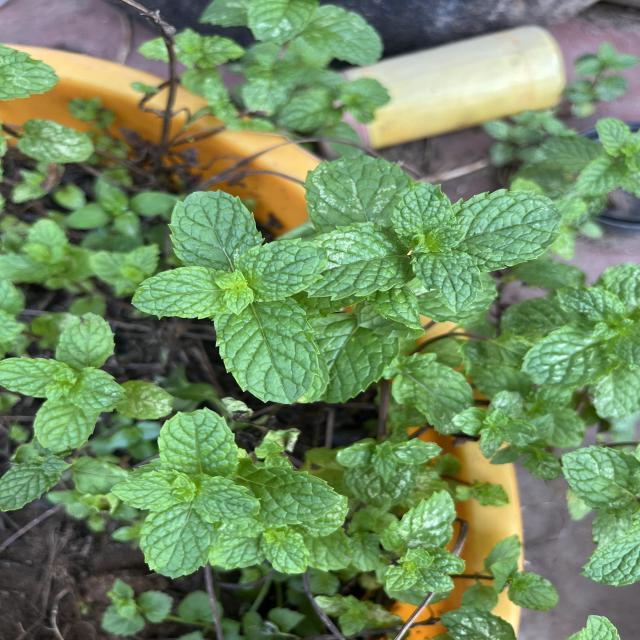Mentha spicata: (212, 296, 321, 406), (452, 187, 564, 273), (166, 188, 266, 268), (137, 502, 223, 580), (238, 237, 329, 303), (156, 406, 240, 476), (129, 264, 229, 321), (408, 246, 482, 315), (388, 178, 459, 247), (110, 468, 192, 509)
